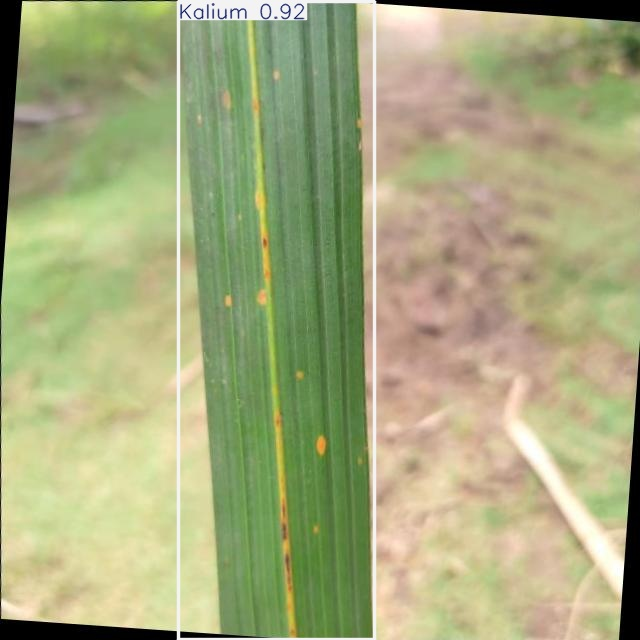Kalium: (178, 1, 375, 639)
